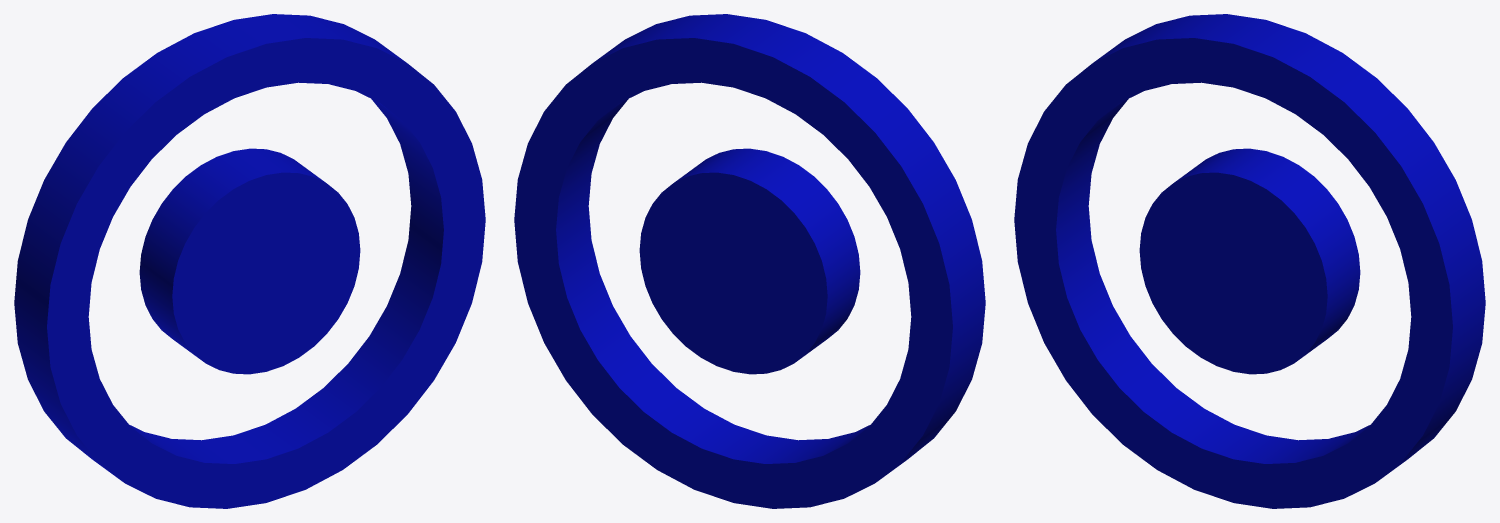
Rendered from Joystick_element_14.FBX.
3 views of the same model, side by side, from view 1: azimuth 30°, elevation 25°; view 2: azimuth 150°, elevation 25°; view 3: azimuth 330°, elevation 25° (orthographic).
Visible parts, largest first — view 1: Joystick_element_14; view 2: Joystick_element_14; view 3: Joystick_element_14.
Part boxes in pixels (left/top/right/bottom): Joystick_element_14: left=14, top=14, right=485, bottom=508; Joystick_element_14: left=514, top=14, right=985, bottom=508; Joystick_element_14: left=1014, top=14, right=1485, bottom=508.
Size of the model in its own units: 23.24 by 23.24 by 3.
